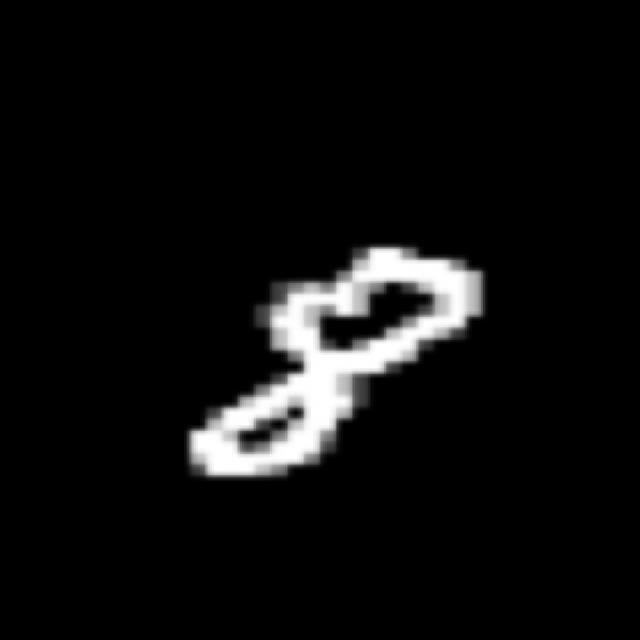eight -8-: (176, 238, 494, 482)
